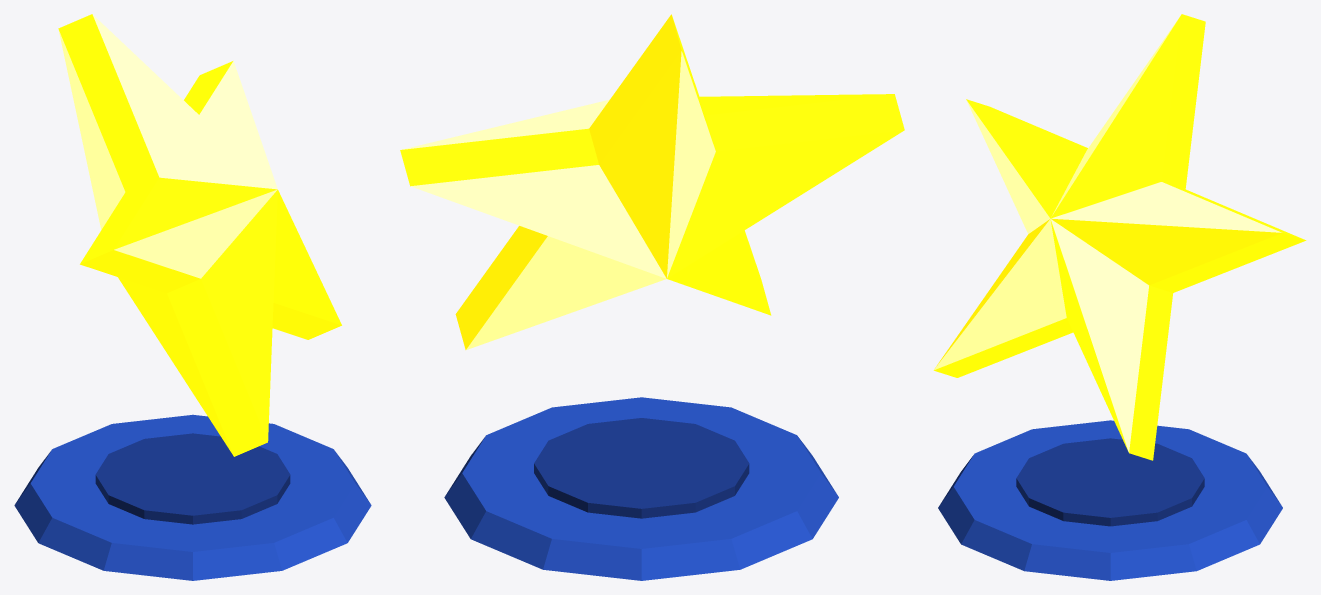
The model's file is star.glb.
3 renders of one model, left to right at view 1: azimuth 30°, elevation 25°; view 2: azimuth 150°, elevation 25°; view 3: azimuth 270°, elevation 25°, orthographic. The views are drawn at different scales.
Visible parts, largest first — view 1: StarBody, StarPad; view 2: StarBody, StarPad; view 3: StarBody, StarPad.
Part boxes in pixels (x1=…): StarBody: x1=58, y1=14, x2=341, y2=456; StarPad: x1=14, y1=414, x2=371, y2=580; StarBody: x1=400, y1=14, x2=904, y2=349; StarPad: x1=444, y1=397, x2=838, y2=580; StarBody: x1=933, y1=14, x2=1306, y2=460; StarPad: x1=938, y1=420, x2=1282, y2=580.
Bounding box in the file's own units: 0.4756 × 0.6523 × 0.4756.
1 material, 1 textured.
